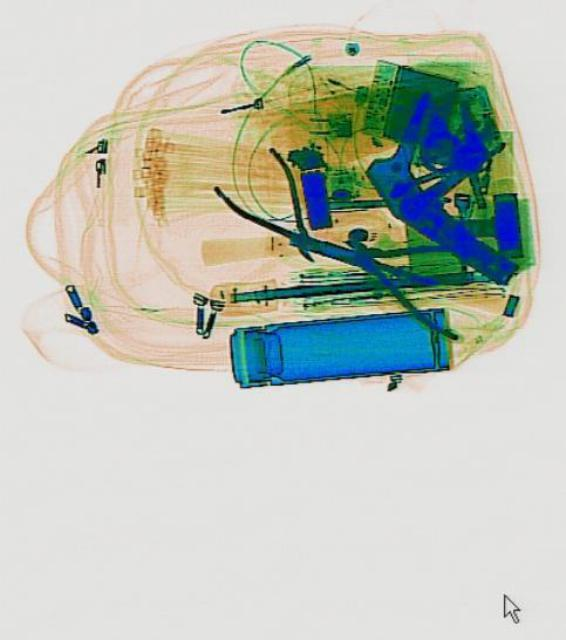Pliers: (322, 198, 493, 340), (210, 136, 346, 282)
